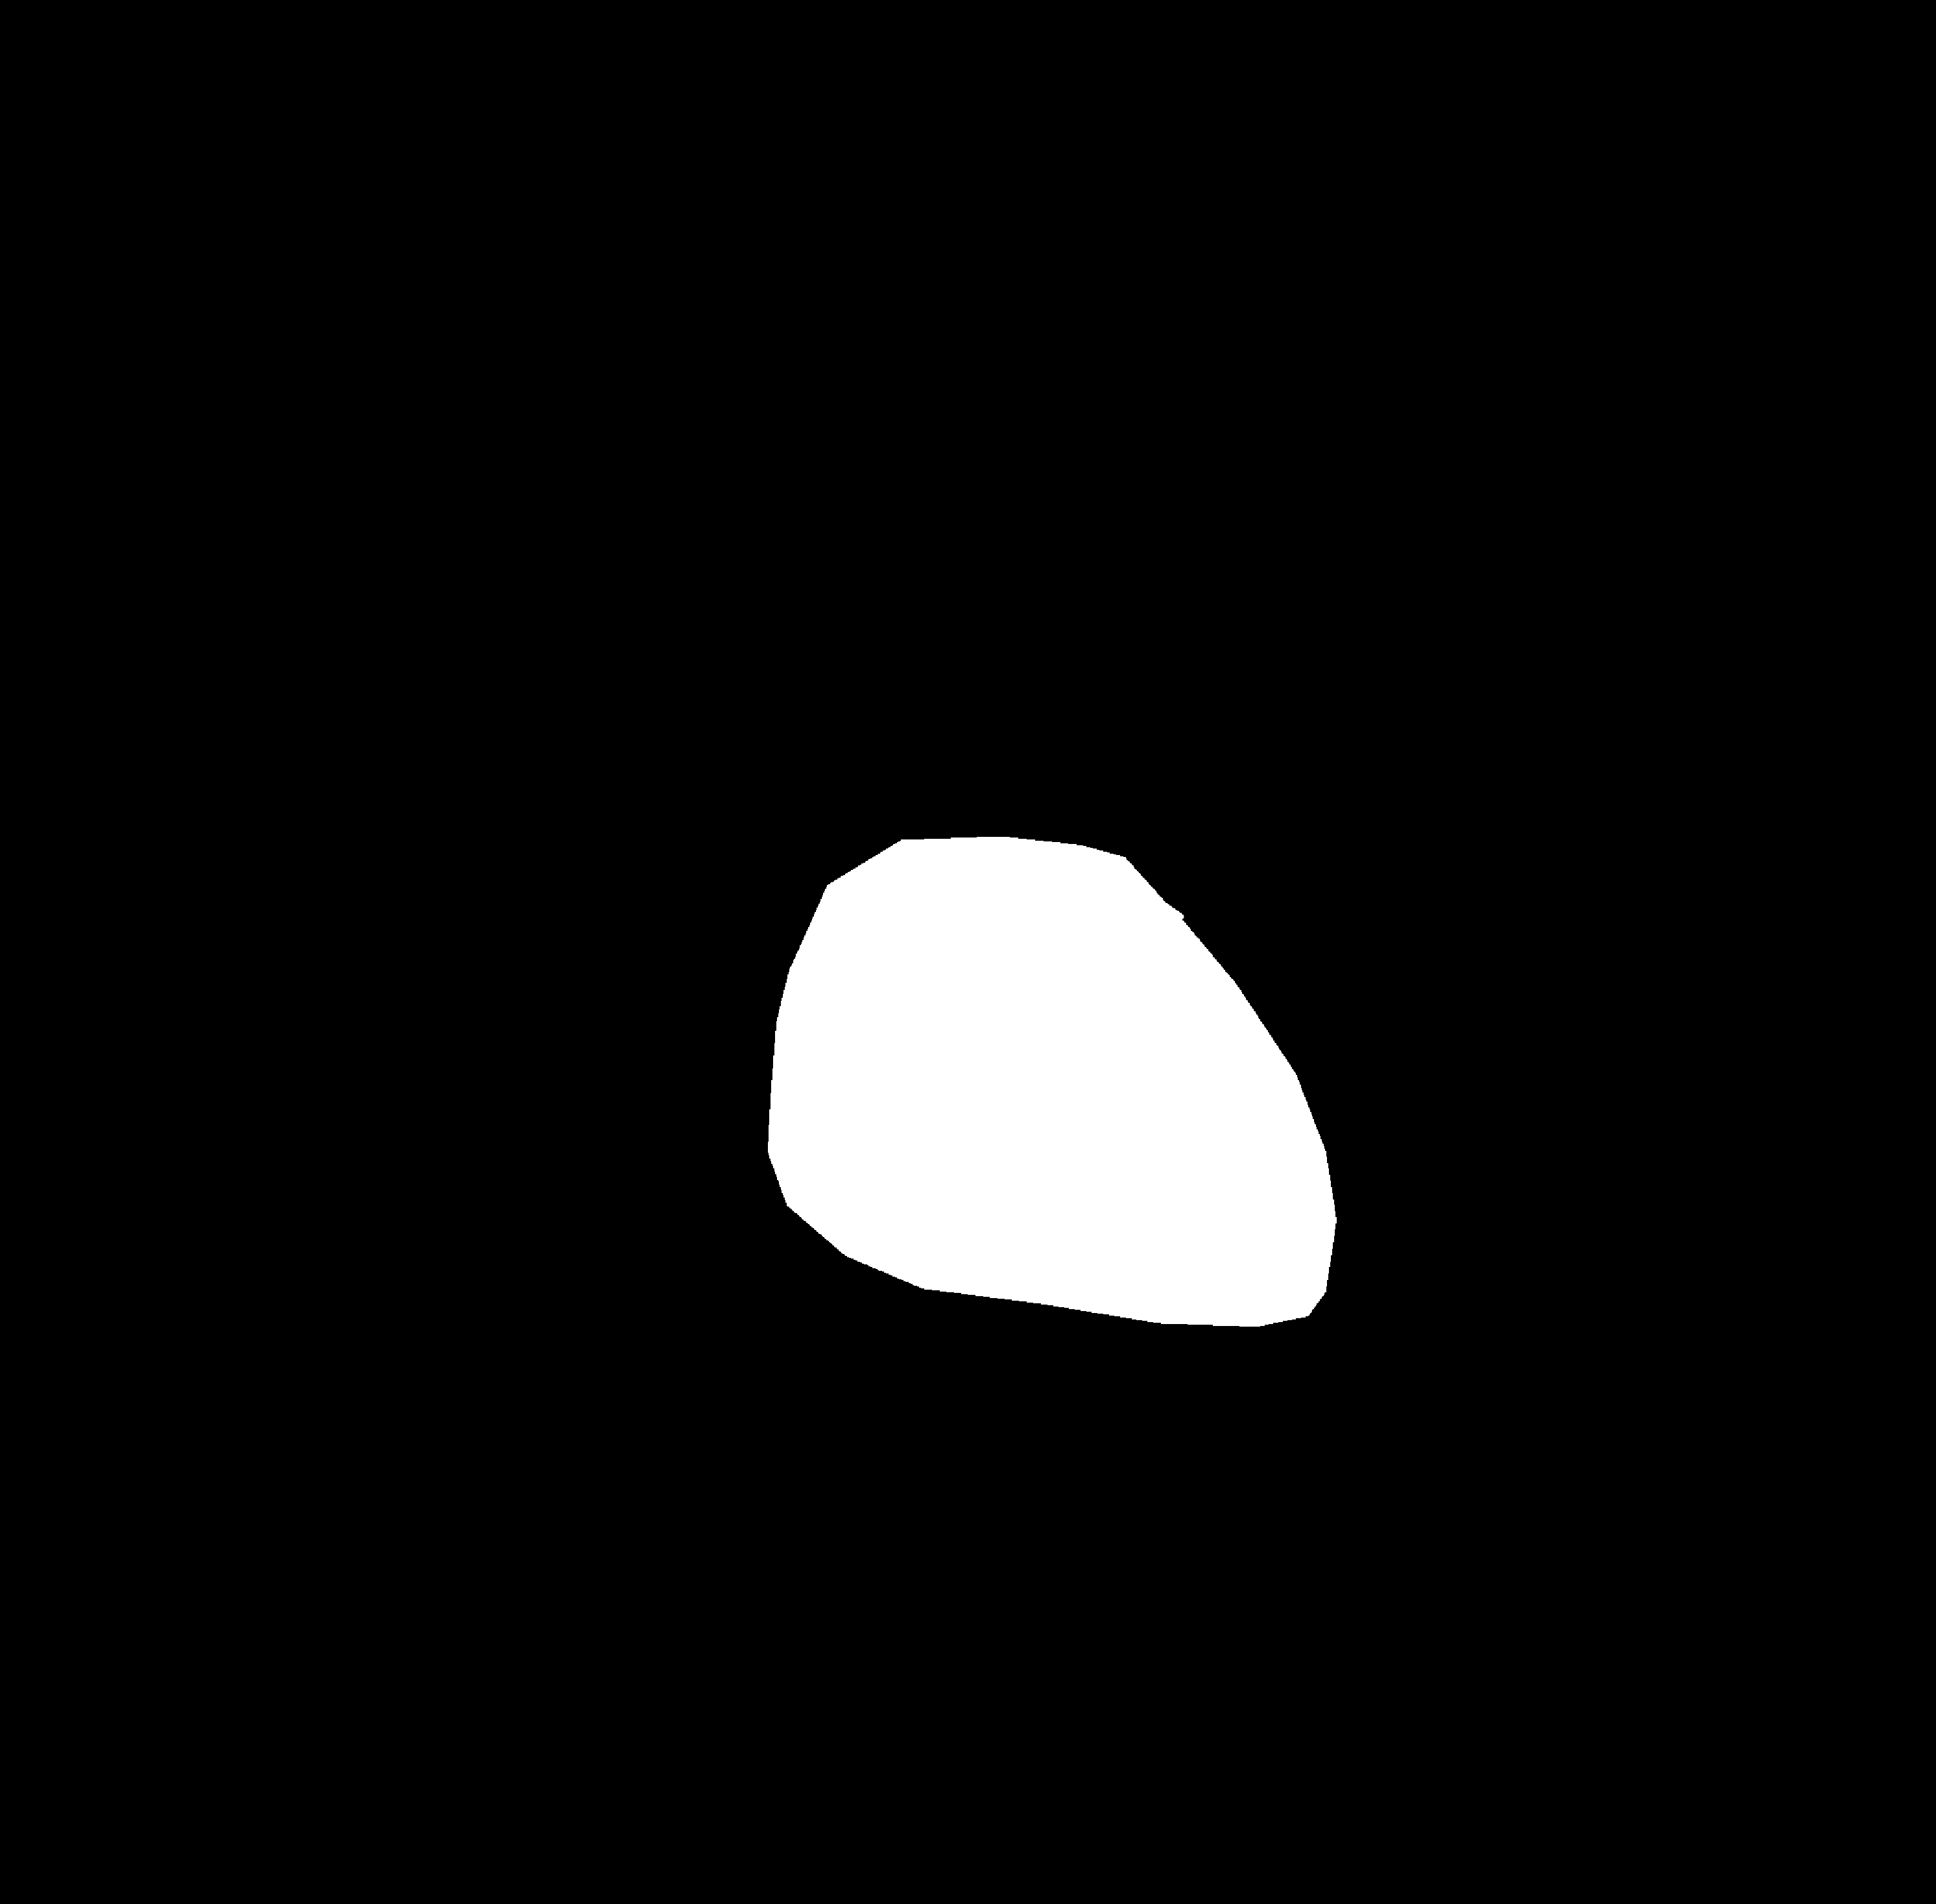heart: (765, 907, 1335, 1365)
left_lung: (361, 218, 915, 1421)
right_lung: (1007, 216, 1500, 1458)
